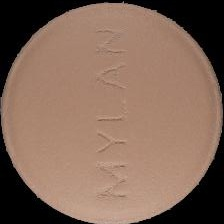0378-0611: (0, 0, 224, 224)
